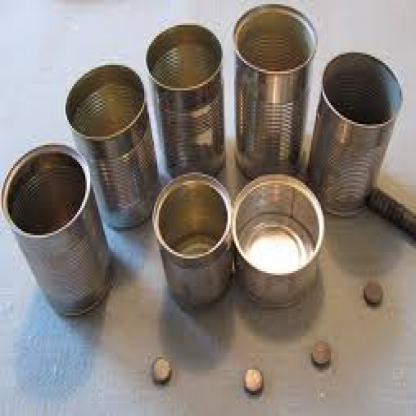METAL: (2, 141, 111, 317), (64, 63, 159, 227), (308, 48, 401, 214), (232, 4, 318, 179), (230, 170, 324, 307), (144, 23, 226, 179), (151, 168, 231, 307)
